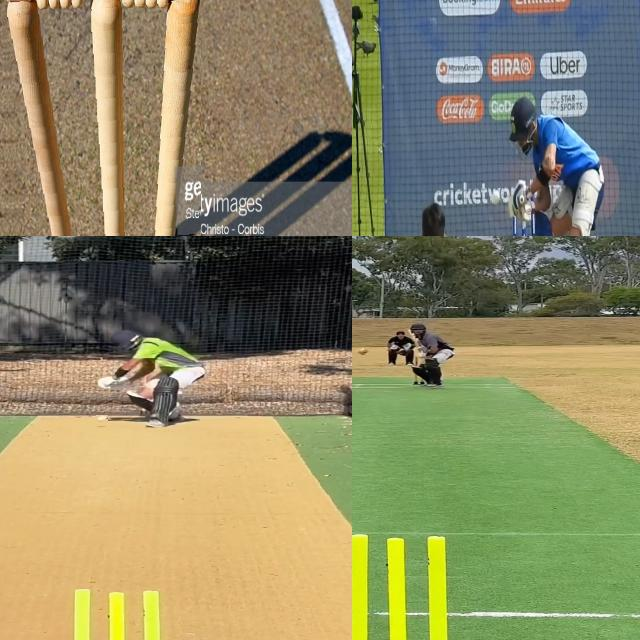Cricket ball: (490, 188, 503, 210), (356, 348, 369, 356), (96, 416, 108, 424)
Stumps: (2, 0, 201, 236), (352, 532, 473, 640), (69, 586, 172, 640)
